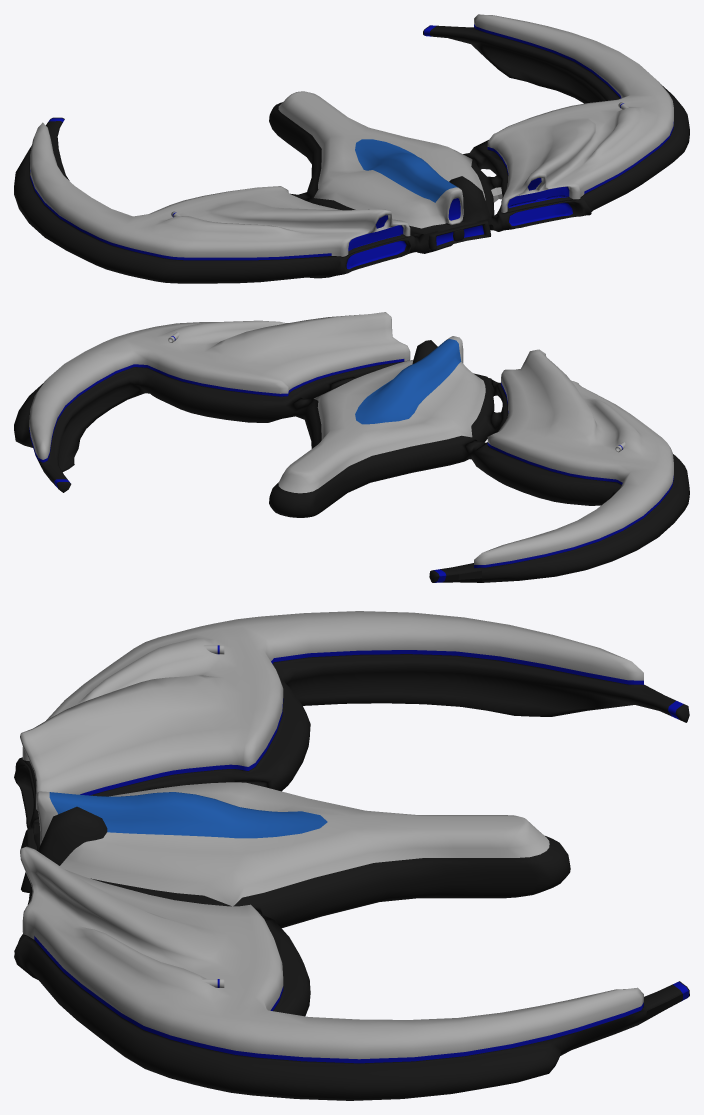
Rendered from spaceshipBottom.obj.
3 views of the same model, one above another, from view 1: azimuth 30°, elevation 25°; view 2: azimuth 150°, elevation 25°; view 3: azimuth 270°, elevation 25° (orthographic). The views are drawn at different scales.
Visible parts, largest first — view 1: Plane; view 2: Plane; view 3: Plane.
Boxes of the visible parts, x1=… form: Plane: x1=14, y1=14, x2=689, y2=283; Plane: x1=14, y1=312, x2=689, y2=582; Plane: x1=14, y1=611, x2=689, y2=1100.
Bounding box in the file's own units: 33.4 × 4 × 20.84.
